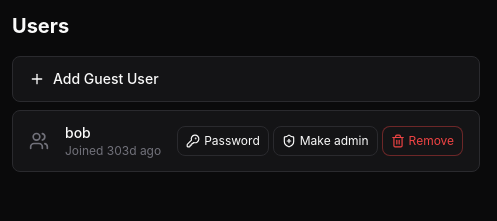
UsersSection admin status + deletion (#274) › surfaces a failed admin-status change
The image size is (497, 221).
Expected: the text "bob" is shown, [65,123,91,143]
Click the button "Make admin": (325, 141) [273,126,378,156]
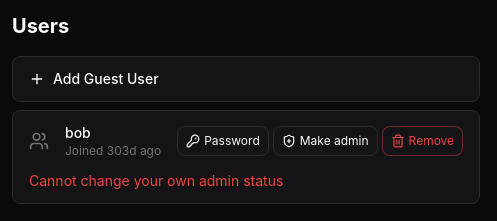
Expected: the text "Cannot change your own admin status" is shown, [29,172,283,189]
